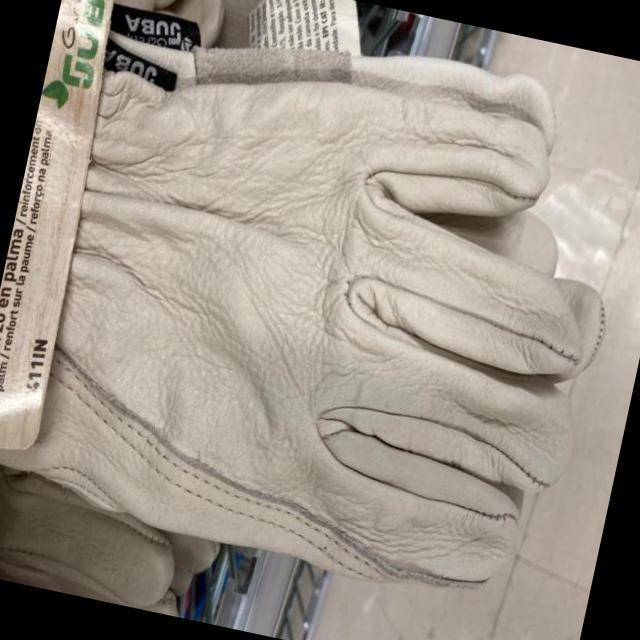Gloves: (6, 22, 595, 575)
